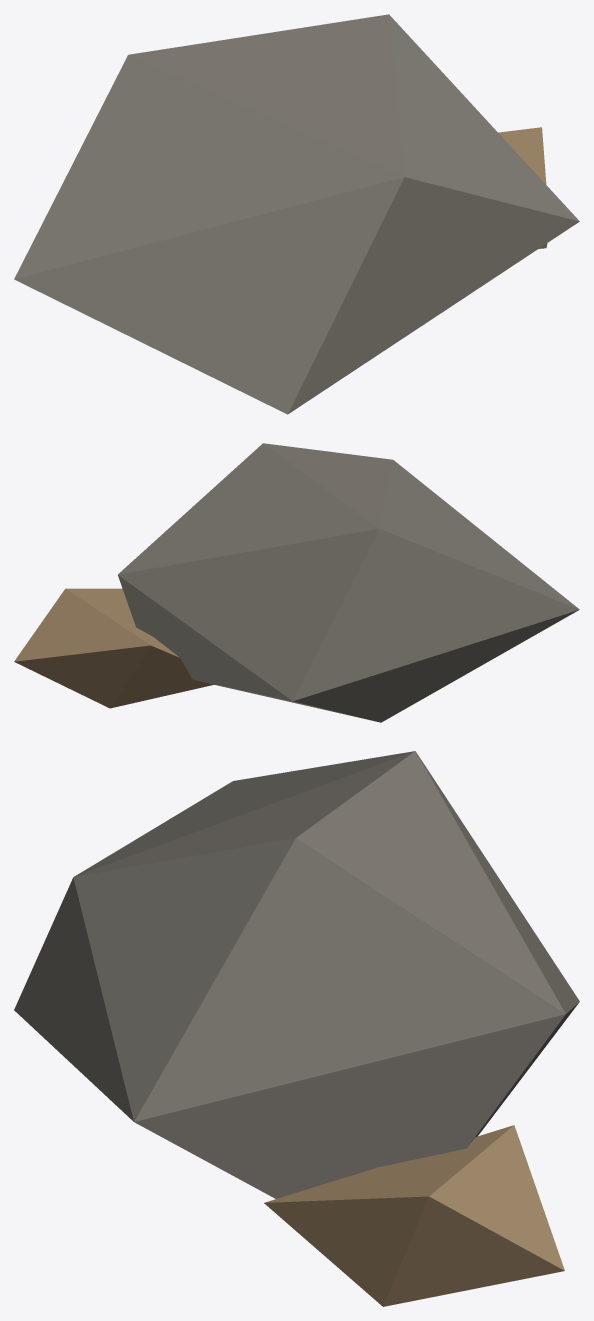
File: rock_06.glb
3 renders of one model, top to bottom at view 1: azimuth 30°, elevation 25°; view 2: azimuth 150°, elevation 25°; view 3: azimuth 270°, elevation 25°, orthographic. The views are drawn at different scales.
Visible parts, largest first — view 1: 石头_06; view 2: 石头_06; view 3: 石头_06.
Part boxes in pixels (x1,y1,x2,y2): 石头_06: [14, 14, 579, 414]; 石头_06: [14, 443, 579, 722]; 石头_06: [14, 751, 579, 1306].
Bounding box in the file's own units: 1.13 × 0.5594 × 0.7644.
